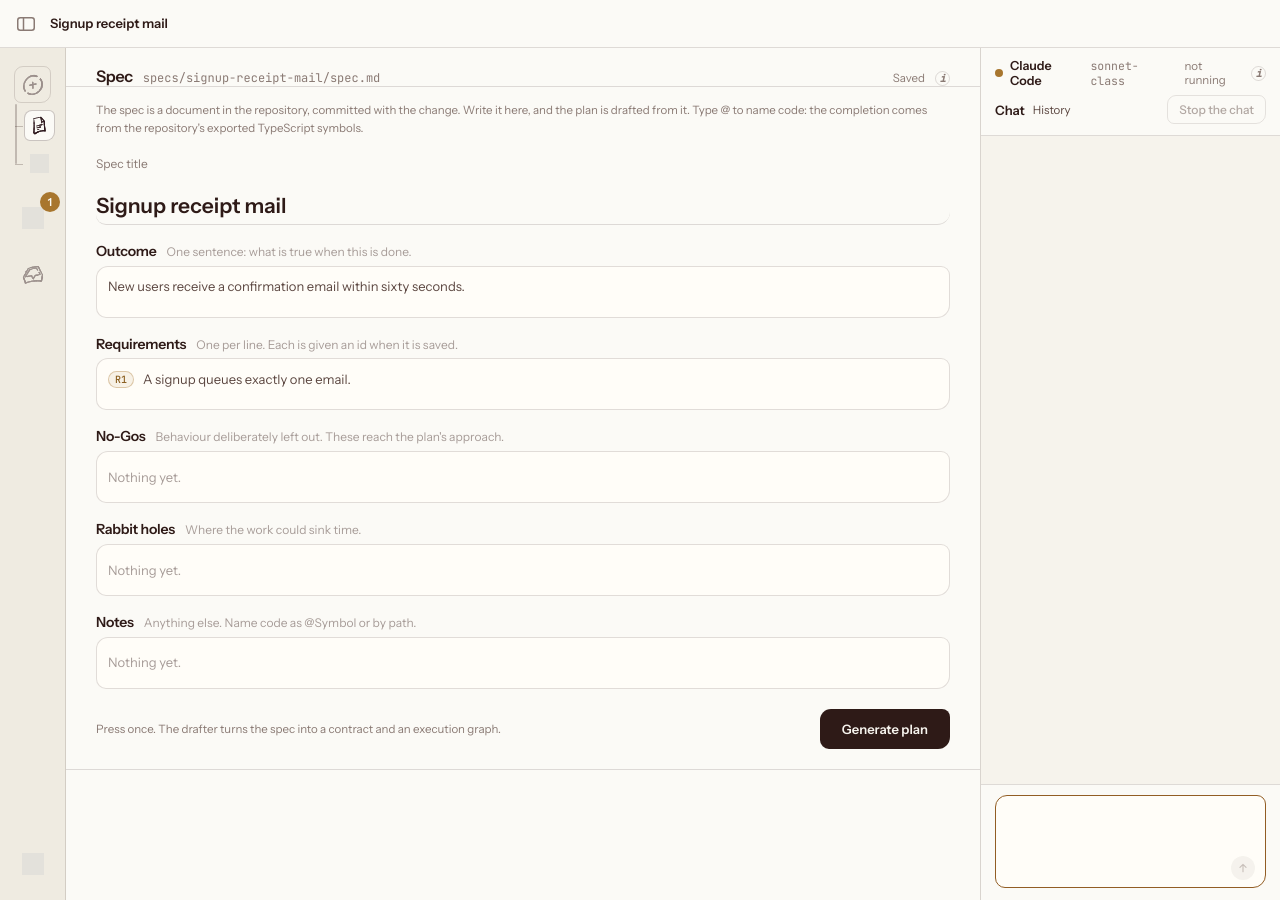
Test: interactive desktop flows › lands a flat plan on Impact where the check found paths outside its scope, with the pop-up there
This screenshot has width=1280, height=900.
Click the button "Generate plan" at (885, 729), box x1=820 y1=709 x2=950 y2=749
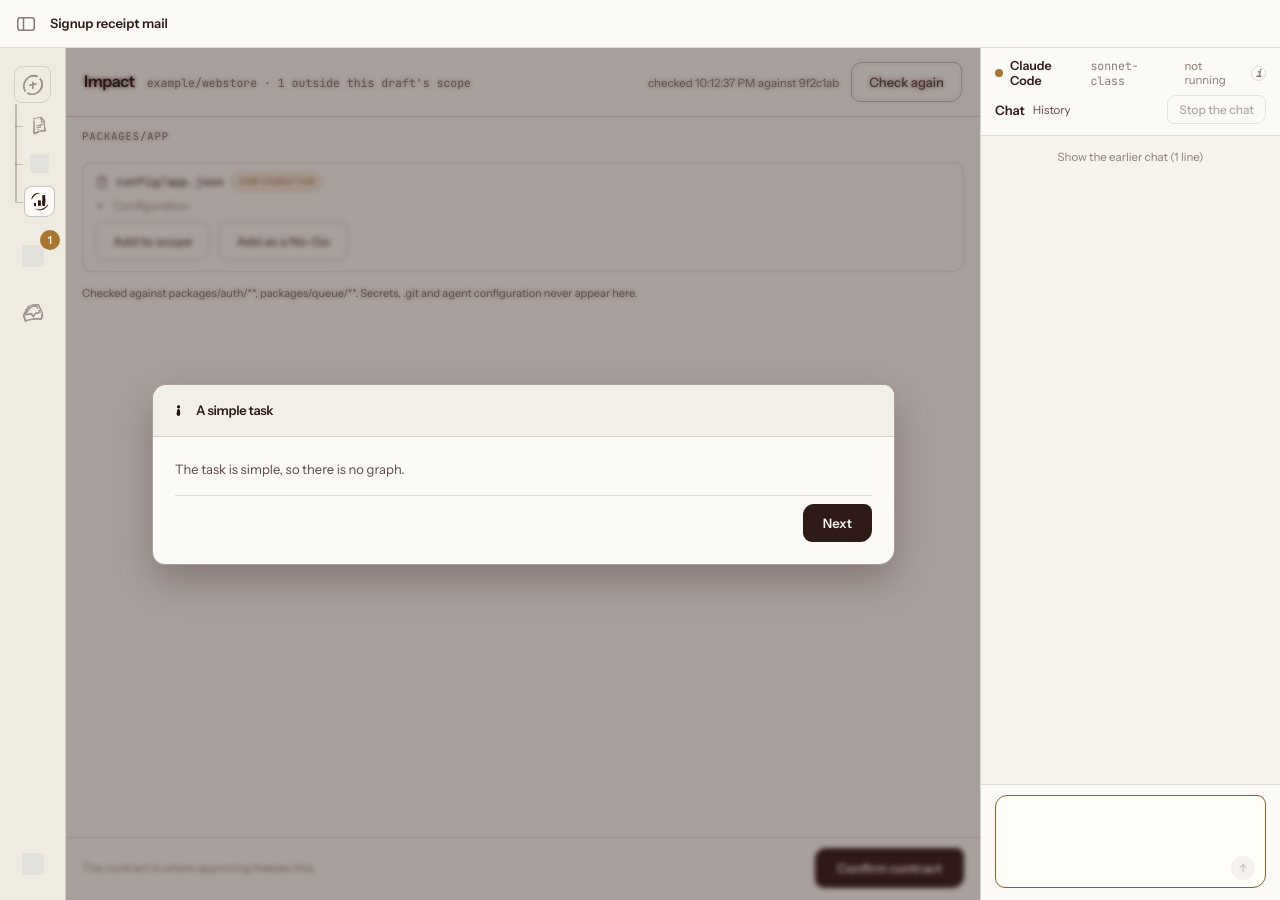
Click the button "Next" at (837, 522), box x1=802 y1=503 x2=872 y2=541
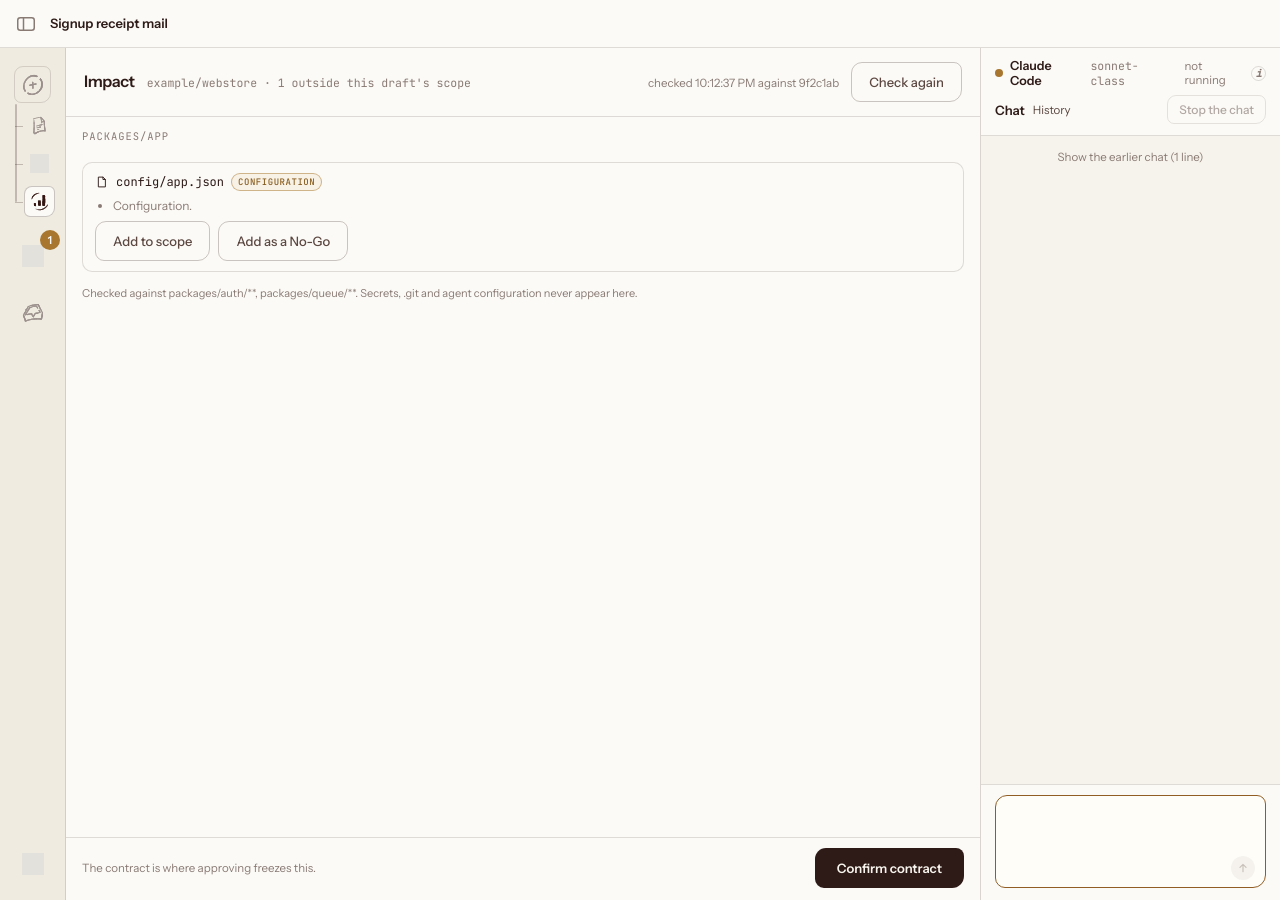
Expected: the text "config/app.json" is shown, x1=116 y1=174 x2=224 y2=190
Click the button "Confirm contract" at (889, 868), box x1=815 y1=848 x2=964 y2=888
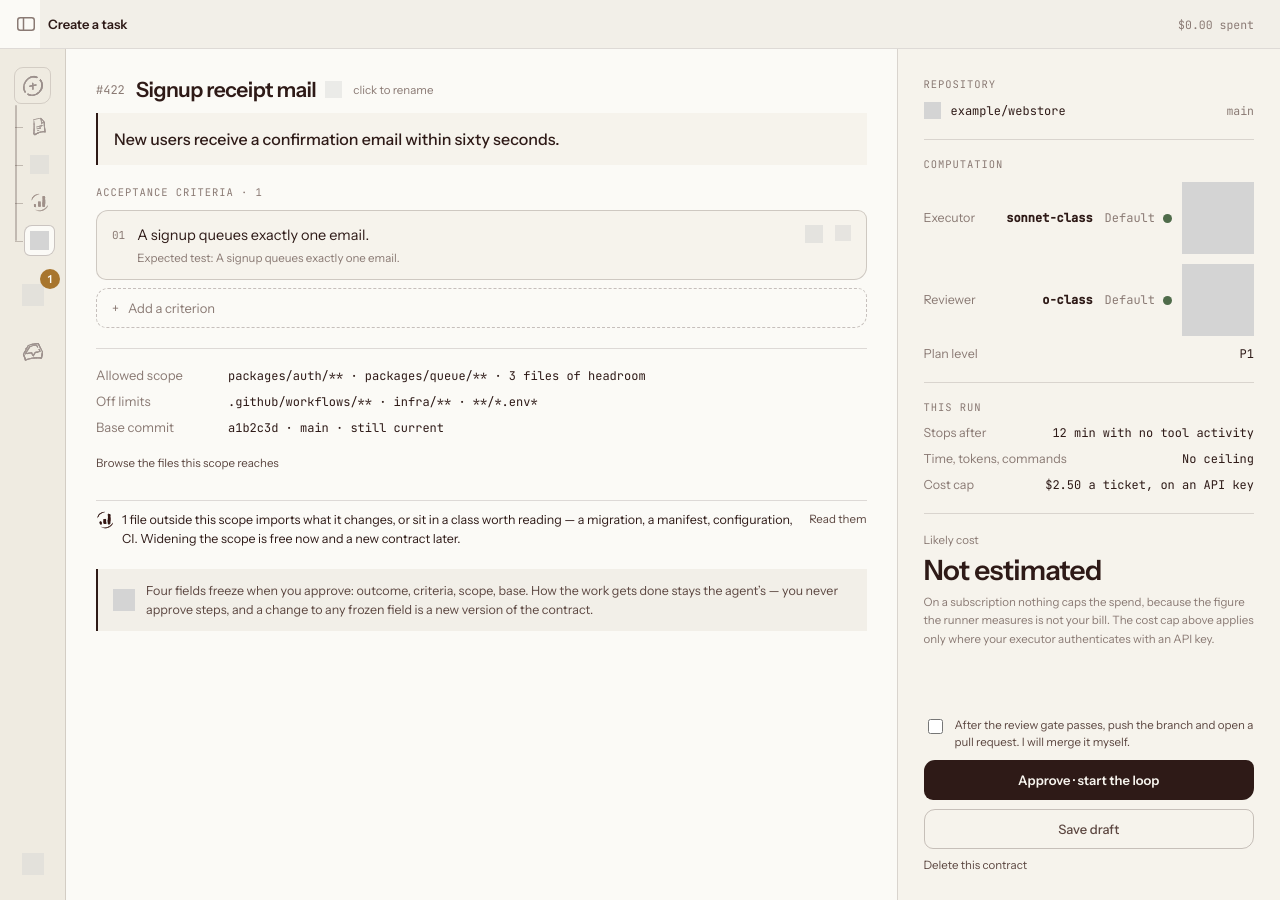
Expected: the button "Approve · start the loop" is shown, x1=924 y1=760 x2=1254 y2=800
